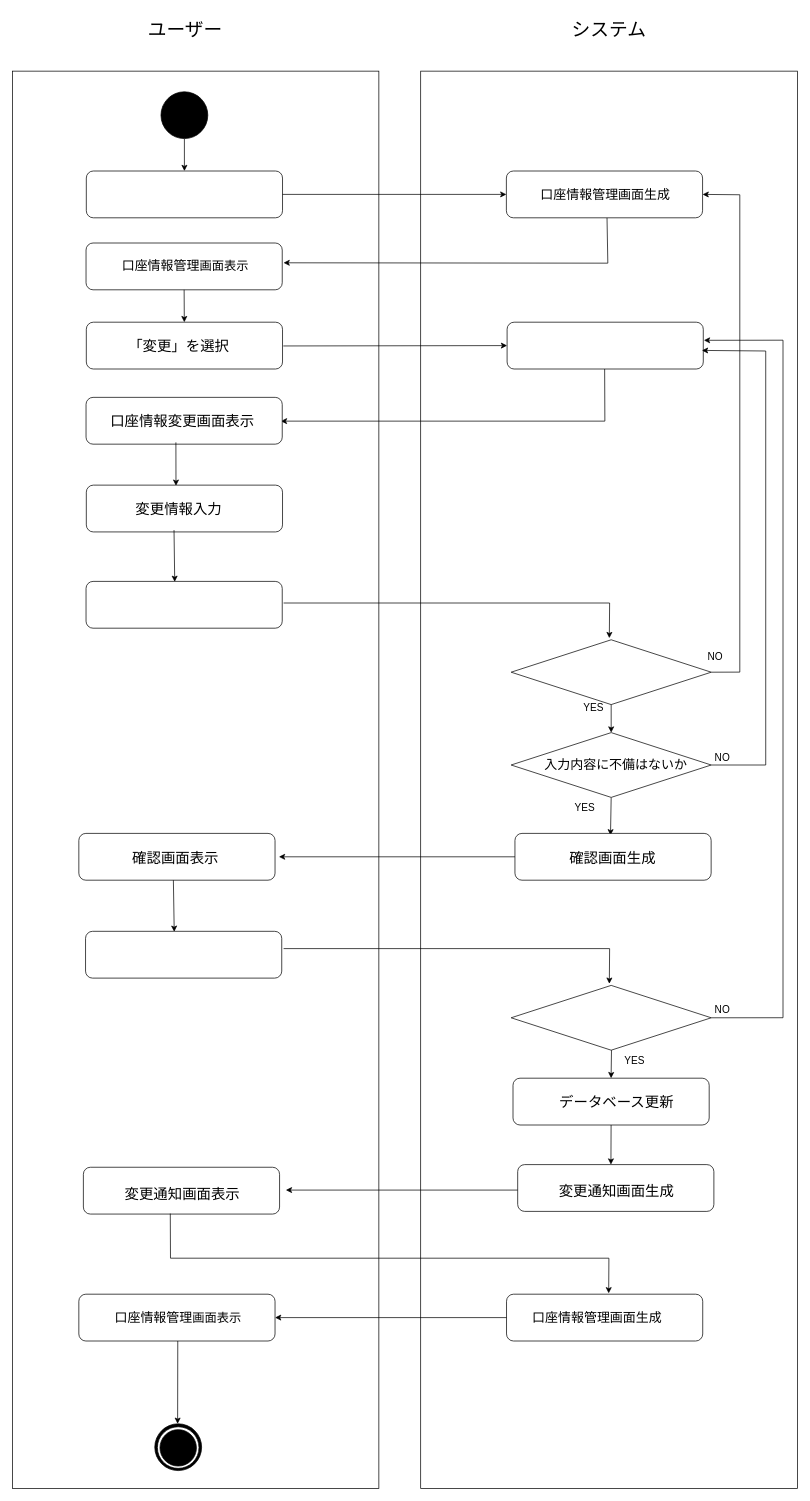
The diagram is 810 pixels wide and 1501 high, and some of its shapes have lost their labels. The centre of each missing label's shape, as x and y in pixels:
「次へ」を選択したか: the point at 610,672
「確定」を選択したか: the point at 610,1017
口座情報変更画面生成: the point at 604,345
口座情報管理選択: the point at 184,194
次へまたは 戻るボタンを選択: the point at 183,604
確定または 戻るボタンを選択: the point at 183,954
